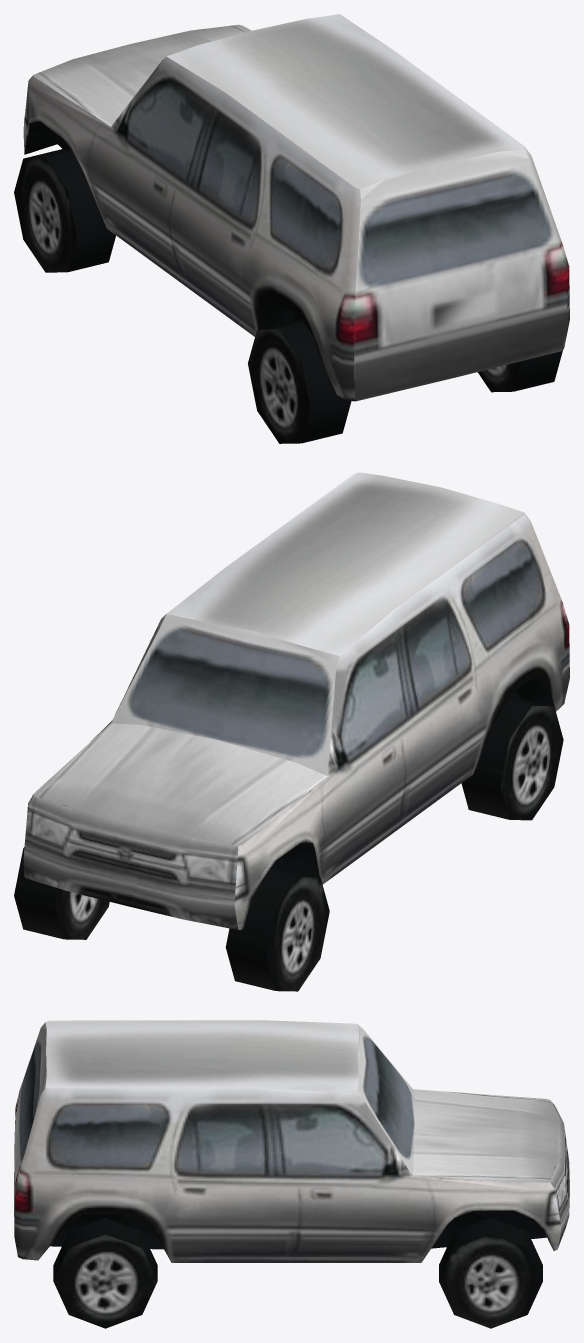
The model's file is white_jeep.obj.
3 renders of one model, top to bottom at view 1: azimuth 30°, elevation 25°; view 2: azimuth 150°, elevation 25°; view 3: azimuth 270°, elevation 25°, orthographic. The views are drawn at different scales.
Visible parts, largest first — view 1: JeepCPU01; view 2: JeepCPU01; view 3: JeepCPU01.
Boxes of the visible parts, x1,y1,x2,y2 form: JeepCPU01: (14, 14, 569, 443); JeepCPU01: (14, 472, 569, 991); JeepCPU01: (14, 1020, 569, 1328).
Bounding box in the file's own units: 0.2245 × 0.2359 × 0.5192.
